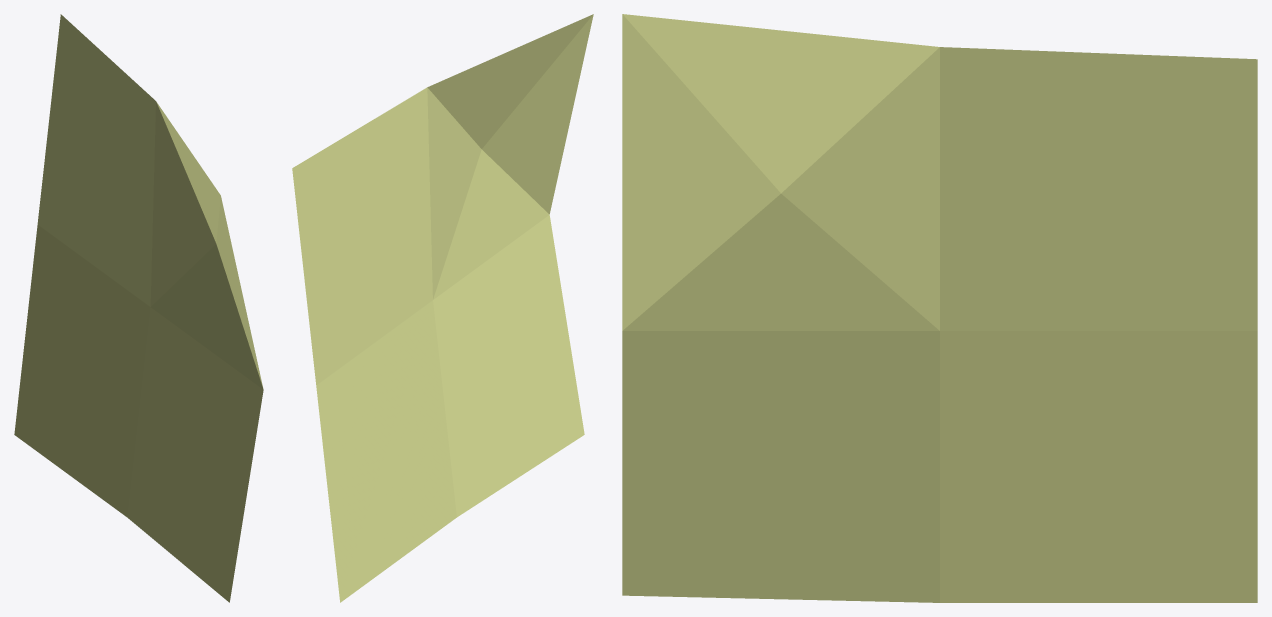
The model's file is GameAsset_Note001_v01.fbx.
3 views of the same model, side by side, from view 1: azimuth 30°, elevation 25°; view 2: azimuth 150°, elevation 25°; view 3: azimuth 270°, elevation 25° (orthographic). The views are drawn at different scales.
Parts seen in each view (by area): view 1: post-it.001; view 2: post-it.001; view 3: post-it.001.
Boxes of the visible parts, left/top/right/bottom form: post-it.001: left=14, top=14, right=263, bottom=602; post-it.001: left=292, top=14, right=593, bottom=602; post-it.001: left=622, top=14, right=1257, bottom=602.
Bounding box in the file's own units: 2.4 × 14.23 × 14.23.
